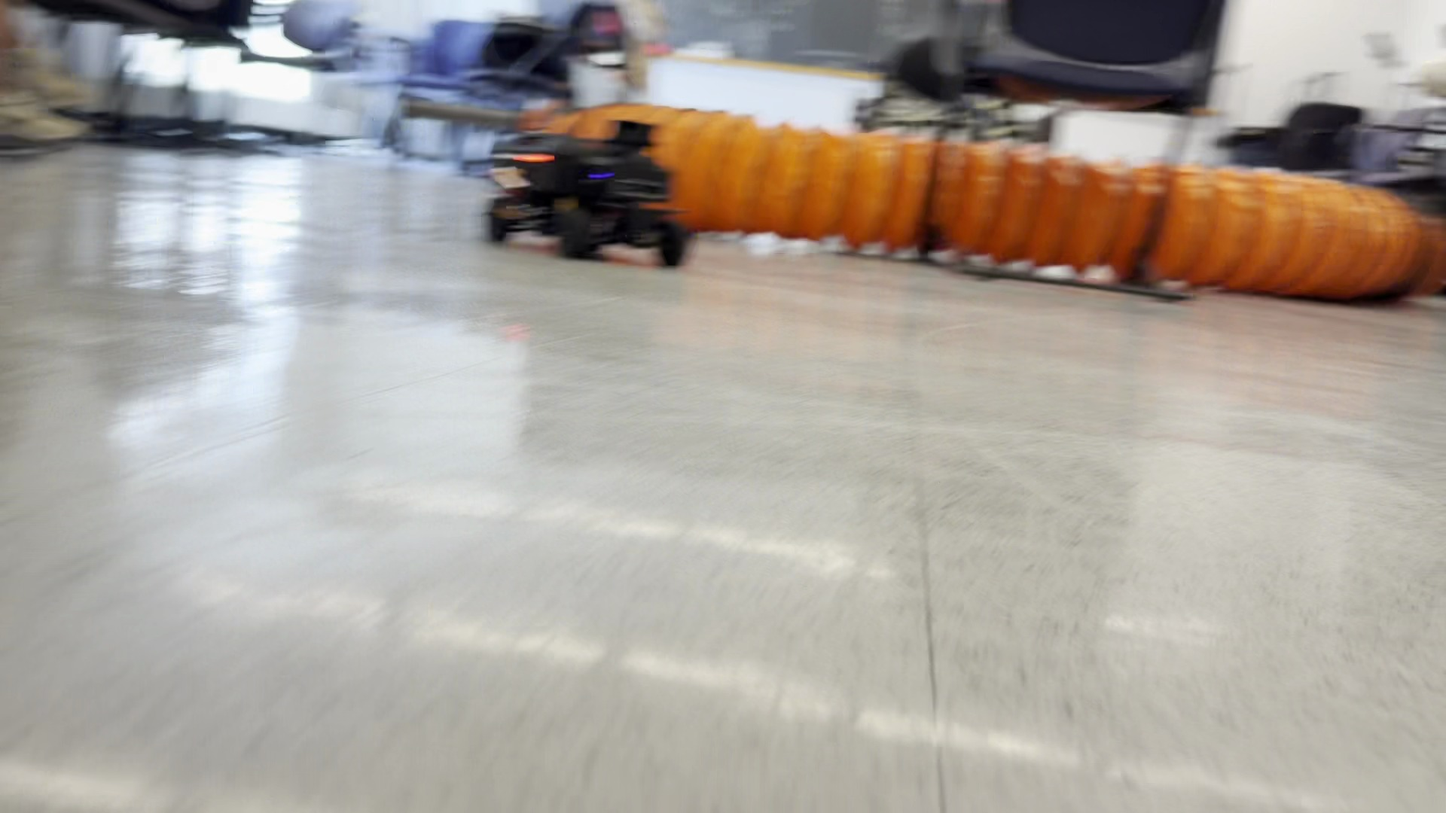racecar: (481, 122, 685, 267)
